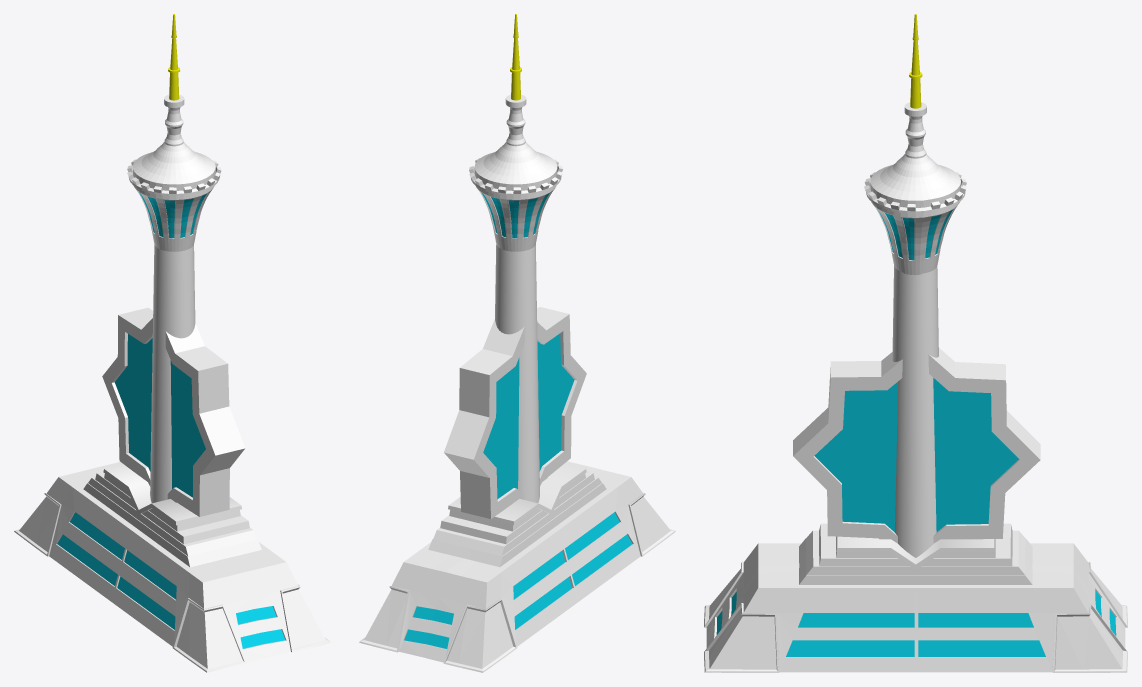
The model's file is teleyaylymBinasy.FBX.
3 views of the same model, side by side, from view 1: azimuth 30°, elevation 25°; view 2: azimuth 150°, elevation 25°; view 3: azimuth 270°, elevation 25° (orthographic). The views are drawn at different scales.
Visible parts, largest first — view 1: Box001, Cylinder001, Group001, Star001; view 2: Box001, Cylinder001, Group001, Star001; view 3: Box001, Group001, Cylinder001, Star001.
Part boxes in pixels (x1,y1,x2,y2): Box001: [14, 462, 330, 672]; Cylinder001: [127, 94, 221, 503]; Group001: [57, 14, 285, 648]; Star001: [102, 307, 245, 516]; Box001: [359, 461, 675, 672]; Cylinder001: [469, 94, 563, 503]; Group001: [404, 14, 632, 648]; Star001: [444, 307, 586, 518]; Box001: [704, 523, 1127, 672]; Group001: [716, 14, 1116, 656]; Cylinder001: [864, 102, 966, 557]; Star001: [793, 348, 1040, 543].
Bounding box in the file's own units: 171 × 748 × 459.
